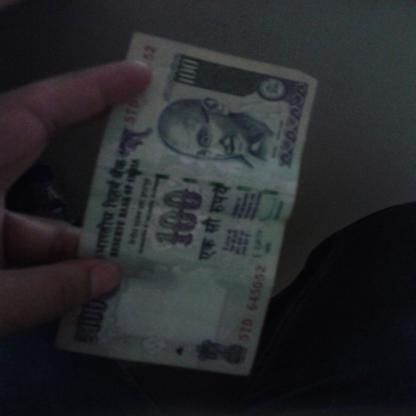Old100Front: (58, 31, 318, 378)
